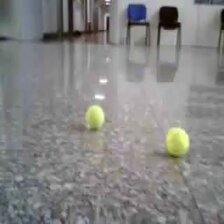tennis: (165, 127, 189, 155), (85, 105, 104, 126)
